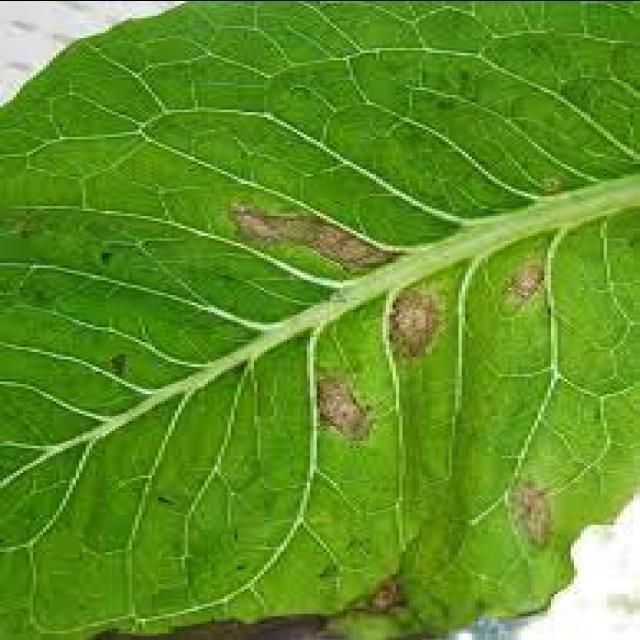Septoria_Blight: (198, 176, 568, 558)
